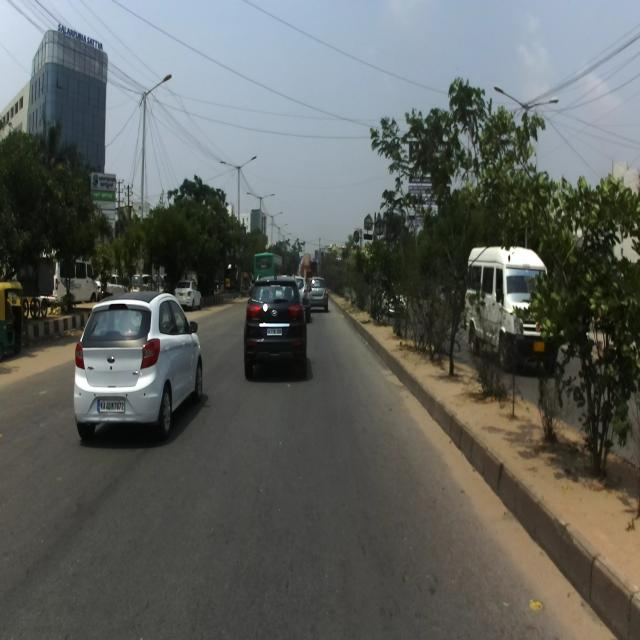car: (73, 288, 203, 440), (242, 271, 309, 380)
mini-bus: (463, 246, 565, 370)
